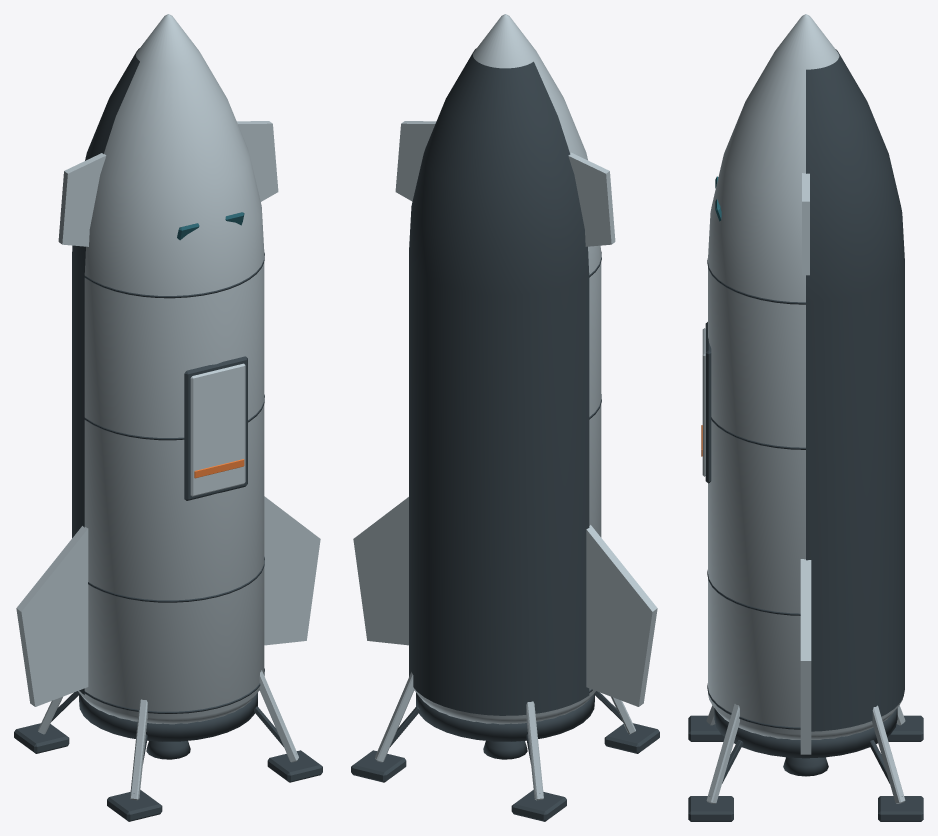
File: starship.glb
3 views of the same model, side by side, from view 1: azimuth 30°, elevation 25°; view 2: azimuth 150°, elevation 25°; view 3: azimuth 270°, elevation 25° (orthographic). The views are drawn at different scales.
Parts seen in each view (by area): view 1: starship_metal.001, starship_dark.001; view 2: starship_dark.001, starship_metal.001; view 3: starship_dark.001, starship_metal.001.
Part boxes in pixels (x1,y1,x2,y2): starship_metal.001: [16, 14, 320, 800]; starship_dark.001: [14, 48, 322, 821]; starship_dark.001: [351, 48, 659, 821]; starship_metal.001: [353, 14, 657, 800]; starship_dark.001: [688, 49, 923, 821]; starship_metal.001: [702, 14, 905, 803].
Bounding box in the file's own units: 5.4 × 12.82 × 3.6.
